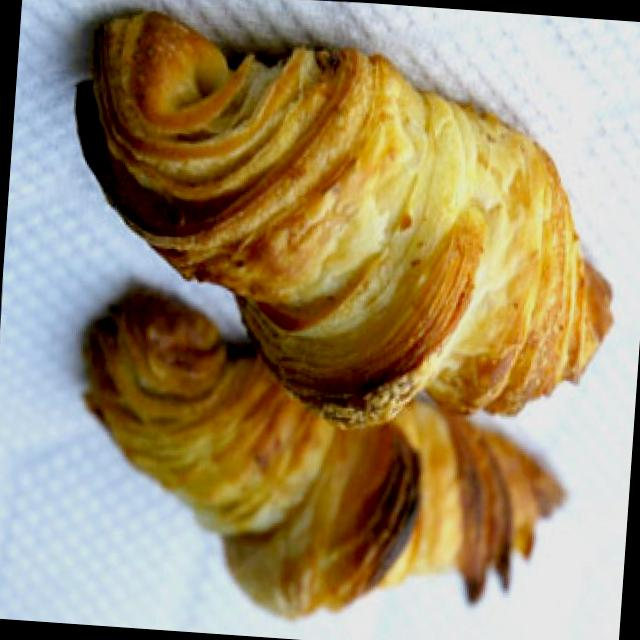Croissant: (52, 10, 631, 448)
